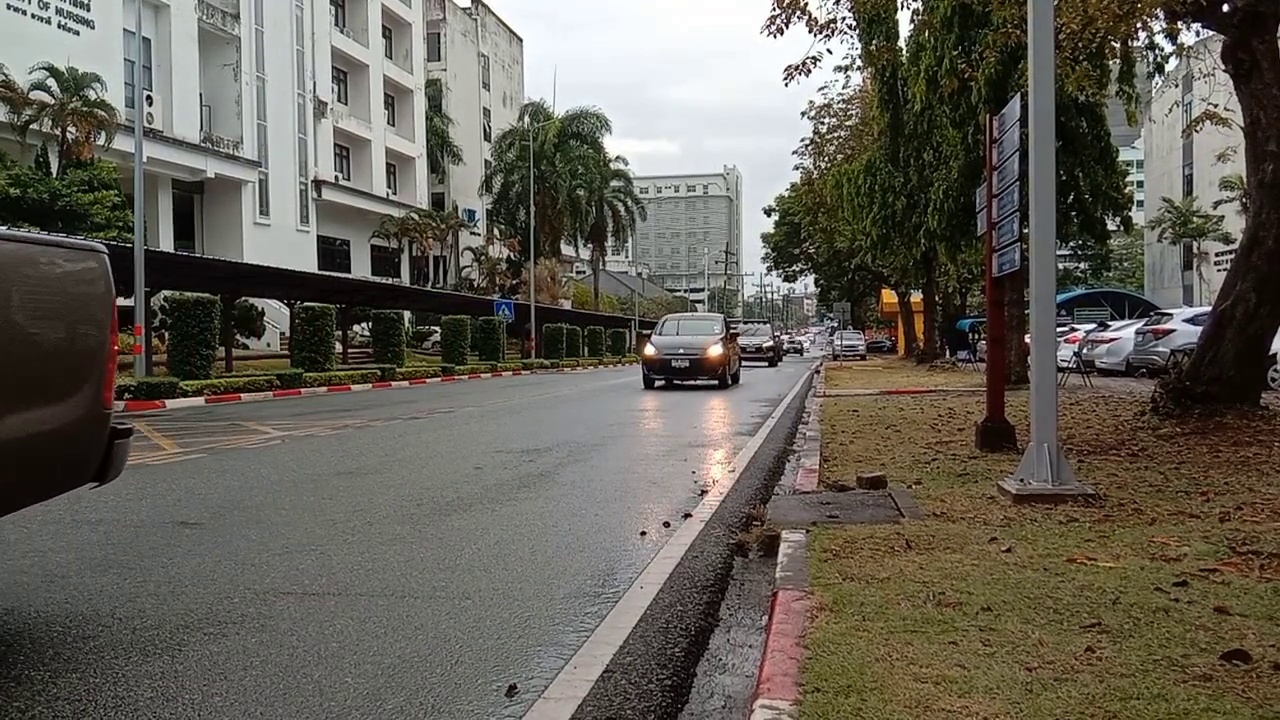License Plate: (669, 357, 688, 367)
